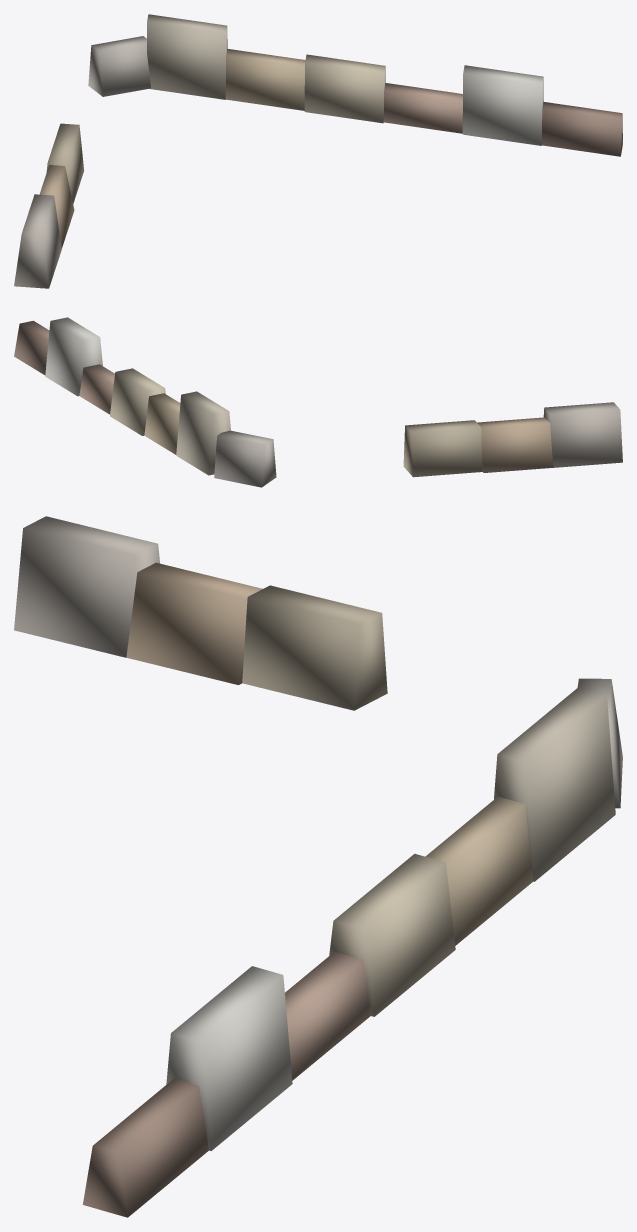
The model's file is farm_-15_-23_collision.glb.
3 views of the same model, one above another, from view 1: azimuth 30°, elevation 25°; view 2: azimuth 150°, elevation 25°; view 3: azimuth 270°, elevation 25° (orthographic). The views are drawn at different scales.
Visible parts, largest first — view 1: geometry_0; view 2: geometry_0; view 3: geometry_0.
Boxes of the visible parts, box(x1,y1,x2,y2) form: geometry_0: box(14, 14, 622, 288); geometry_0: box(14, 317, 622, 487); geometry_0: box(14, 516, 622, 1217).
Size of the model in its own units: 14.63 by 2.62 by 6.71.
